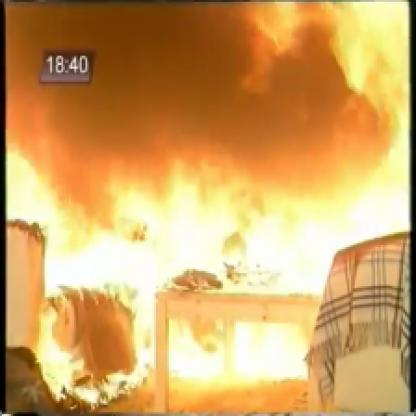fire: (1, 166, 324, 413), (0, 10, 164, 227), (221, 6, 406, 153)
